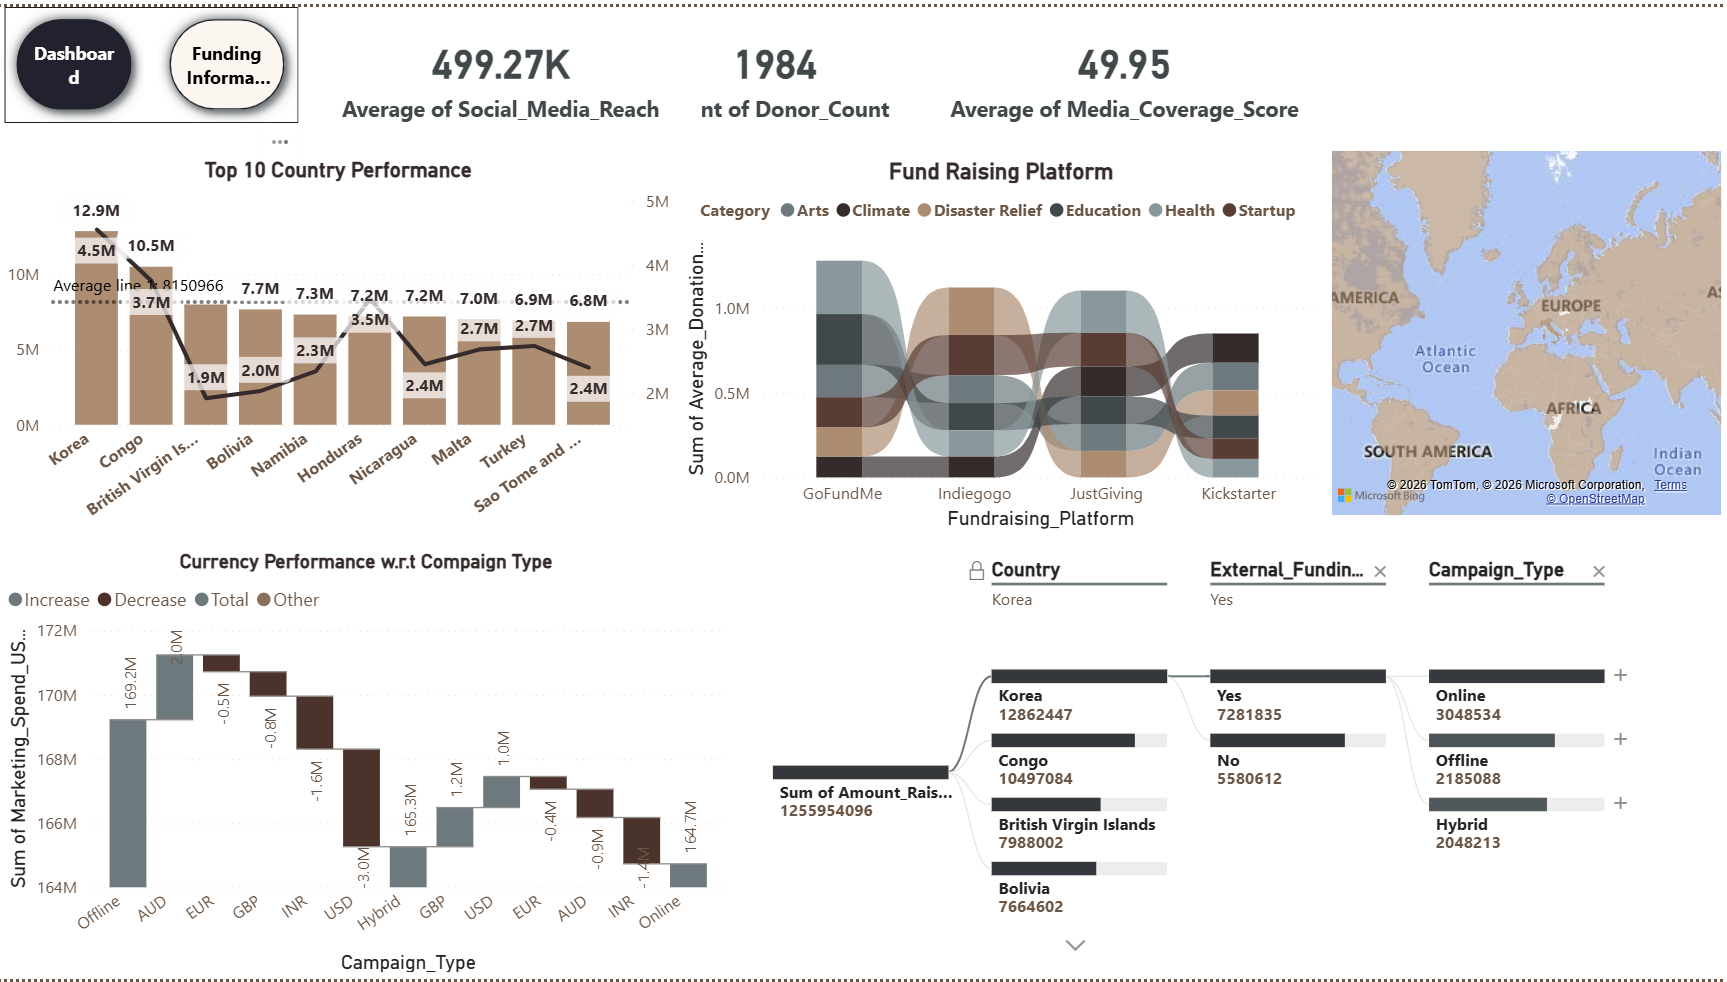

Layout of this report page (visuals, bound fields, positions):
{"tool":"powerbi","page":{"name":"Dashboard","canvas":[1280,720],"ordinal":0},"visuals":[{"type":"lineClusteredColumnComboChart","title":"Top 10 Country Performance","fields":{"Category":["Data.Country"],"Y":["Sum(Data.Amount_Raised_USD)"],"Y2":["Sum(Data.Marketing_Spend_USD)"]},"box":[0,111.2,501.2,280],"z":0},{"type":"ribbonChart","title":"Fund Raising Platform","fields":{"Category":["Data.Fundraising_Platform"],"Y":["Sum(Data.Average_Donation_USD)"],"Series":["Data.Category"]},"box":[502.5,111.2,478.8,280],"z":1000},{"type":"filledMap","fields":{"Category":["Data.Country"]},"box":[981.2,101.2,298.8,280],"z":2000},{"type":"waterfallChart","title":"Currency Performance w.r.t Compaign Type","fields":{"Y":["Sum(Data.Marketing_Spend_USD)"],"Category":["Data.Campaign_Type"],"Breakdown":["Data.Currency"]},"box":[0,402.5,542.5,317.5],"z":3000},{"type":"decompositionTreeVisual","fields":{"ExplainBy":["Data.Country","Data.External_Funding_Received","Data.Campaign_Type","Data.Fundraising_Platform","Data.Status","Data.World_Part"],"Analyze":["Sum(Data.Amount_Raised_USD)"]},"box":[542.5,391.2,736.2,328.8],"z":4000},{"type":"pageNavigator","box":[3.3,0,247.8,85.6],"z":5000},{"type":"card","fields":{"Values":["Count(Data.Donor_Count)"]},"box":[464.3,0,218.6,101.4],"z":6000},{"type":"card","fields":{"Values":["Avg(Data.Media_Coverage_Score)"]},"box":[682.9,0,298.6,101.4],"z":7000},{"type":"card","title":"Avg Social Media Score","fields":{"Values":["Avg(Data.Social_Media_Reach)"]},"box":[221.3,0,298.7,101.6],"z":8000}]}

Visuals, with their boxes in screenshot pixels (x1, y1, x2, y2), scaled from the page's 1280x720 canvas onto the 1727x982 screenshot:
"Top 10 Country Performance" lineClusteredColumnComboChart: {"left": 0, "top": 152, "right": 676, "bottom": 534}
"Fund Raising Platform" ribbonChart: {"left": 678, "top": 152, "right": 1324, "bottom": 534}
filledMap - Data.Country: {"left": 1324, "top": 138, "right": 1726, "bottom": 520}
"Currency Performance w.r.t Compaign Type" waterfallChart: {"left": 0, "top": 549, "right": 732, "bottom": 981}
decompositionTreeVisual - Data.Country x Data.External_Funding_Received: {"left": 732, "top": 534, "right": 1725, "bottom": 981}
pageNavigator: {"left": 4, "top": 0, "right": 339, "bottom": 117}
card - Count(Data.Donor_Count): {"left": 626, "top": 0, "right": 921, "bottom": 138}
card - Avg(Data.Media_Coverage_Score): {"left": 921, "top": 0, "right": 1324, "bottom": 138}
"Avg Social Media Score" card: {"left": 299, "top": 0, "right": 702, "bottom": 139}
